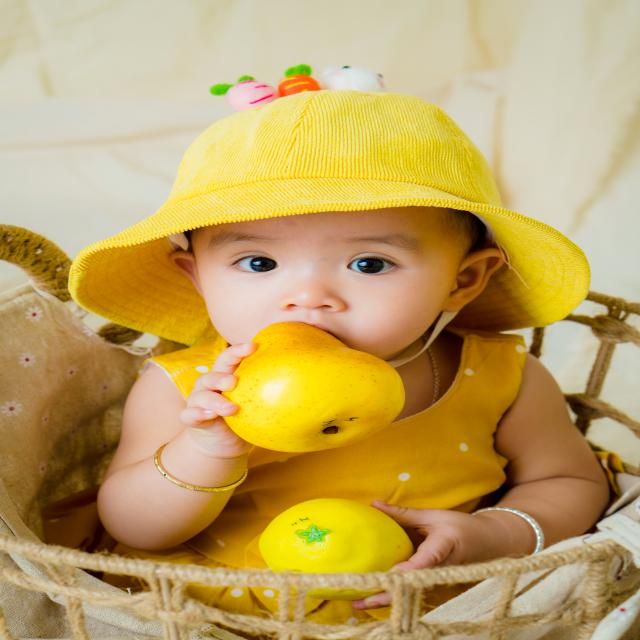child: (80, 69, 611, 616)
